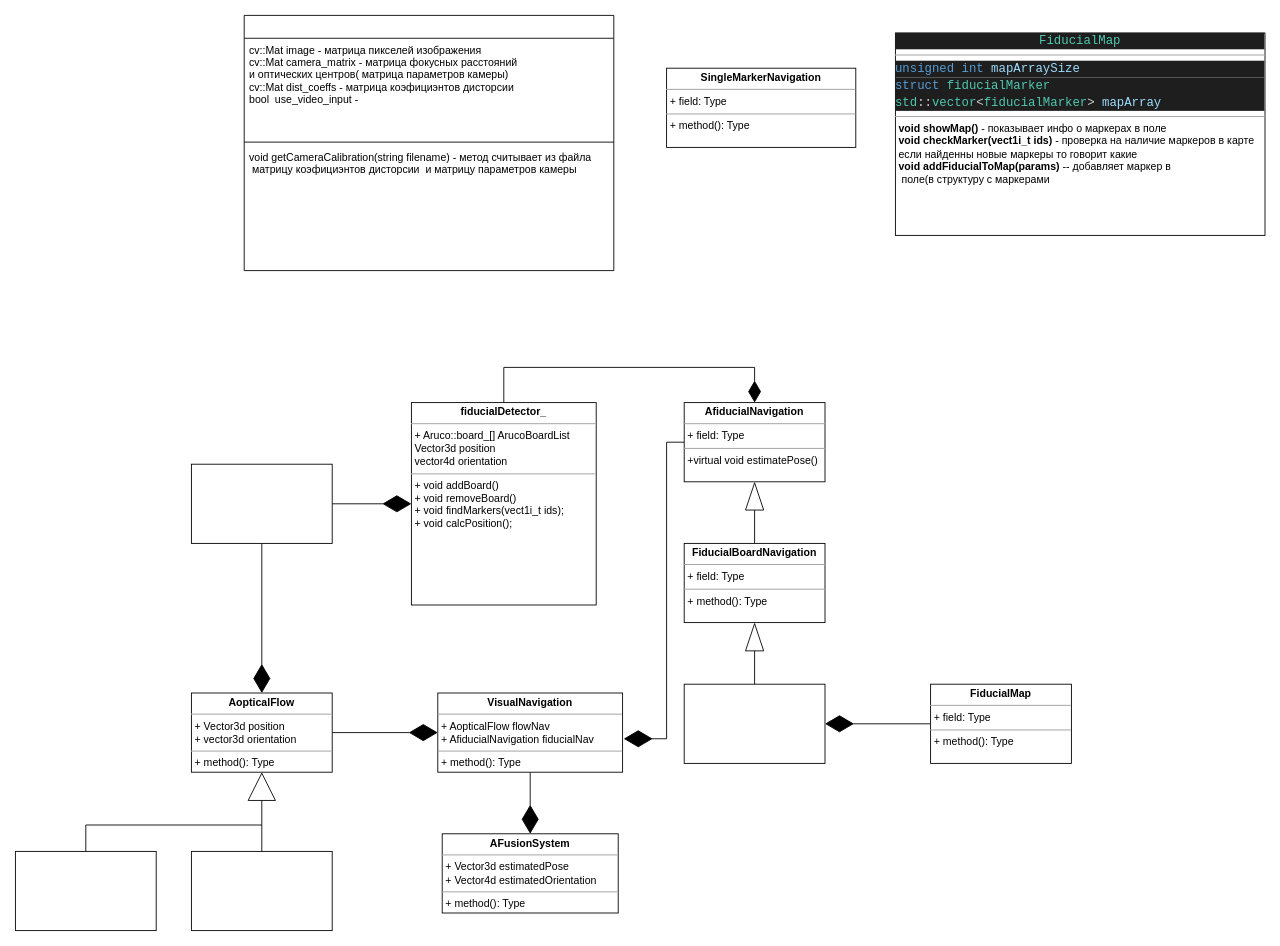
Some shapes in this 1280 by 946 pixel diagram are drawn without their labels. The shapes that lost their labels are listed below. From the top down, each one's box as (x1, y1, x2, y2) in pixels, then its label:
(243, 15, 614, 271): VisionSystem
(191, 463, 332, 543): visionSystem + field: Type + method(): Type
(683, 683, 825, 763): FiducialSlamNavigation + field: Type + method(): Type
(15, 851, 156, 931): LucasCanadeOpticalFlow + +
(191, 851, 332, 931): PhaseCorrOpticalFlow + +
